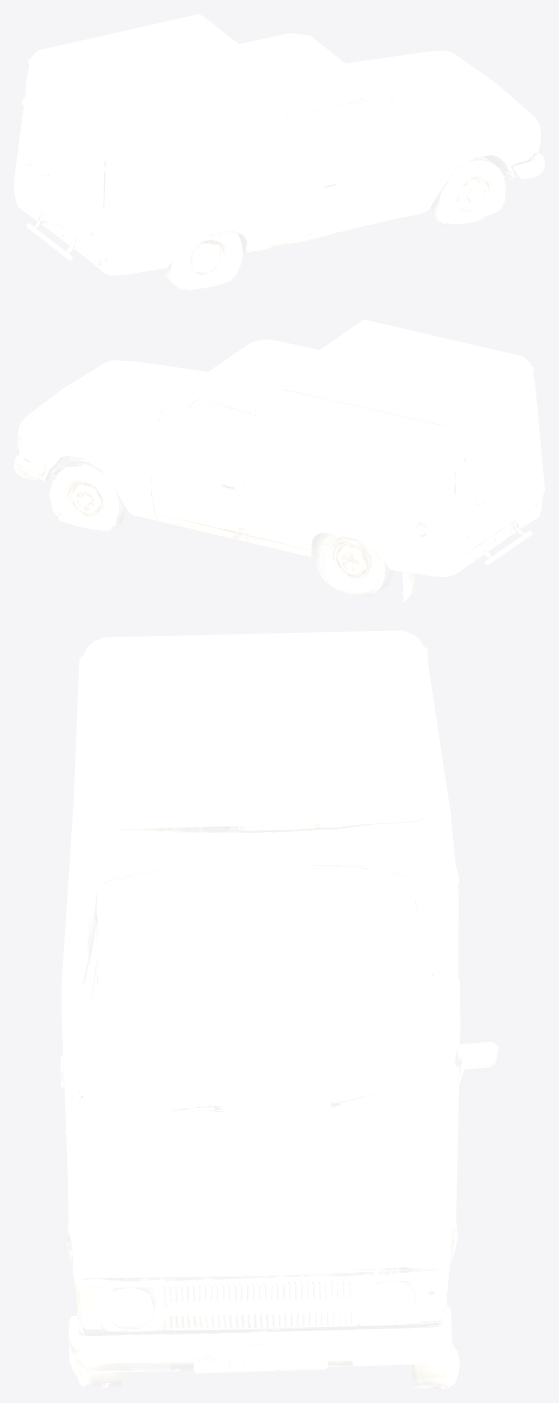
Rendered from Car1156Verts.glb.
3 views of the same model, one above another, from view 1: azimuth 30°, elevation 25°; view 2: azimuth 150°, elevation 25°; view 3: azimuth 270°, elevation 25° (orthographic). The views are drawn at different scales.
Visible parts, largest first — view 1: Pirozhok001_Material #23_0; view 2: Pirozhok001_Material #23_0; view 3: Pirozhok001_Material #23_0.
Part boxes in pixels (x1,y1,x2,y2): Pirozhok001_Material #23_0: (14,14,544,290); Pirozhok001_Material #23_0: (14,319,544,601); Pirozhok001_Material #23_0: (60,630,498,1388).
Size of the model in its own units: 162 by 67.27 by 67.59.
Materials: 1 (1 with a texture image).
